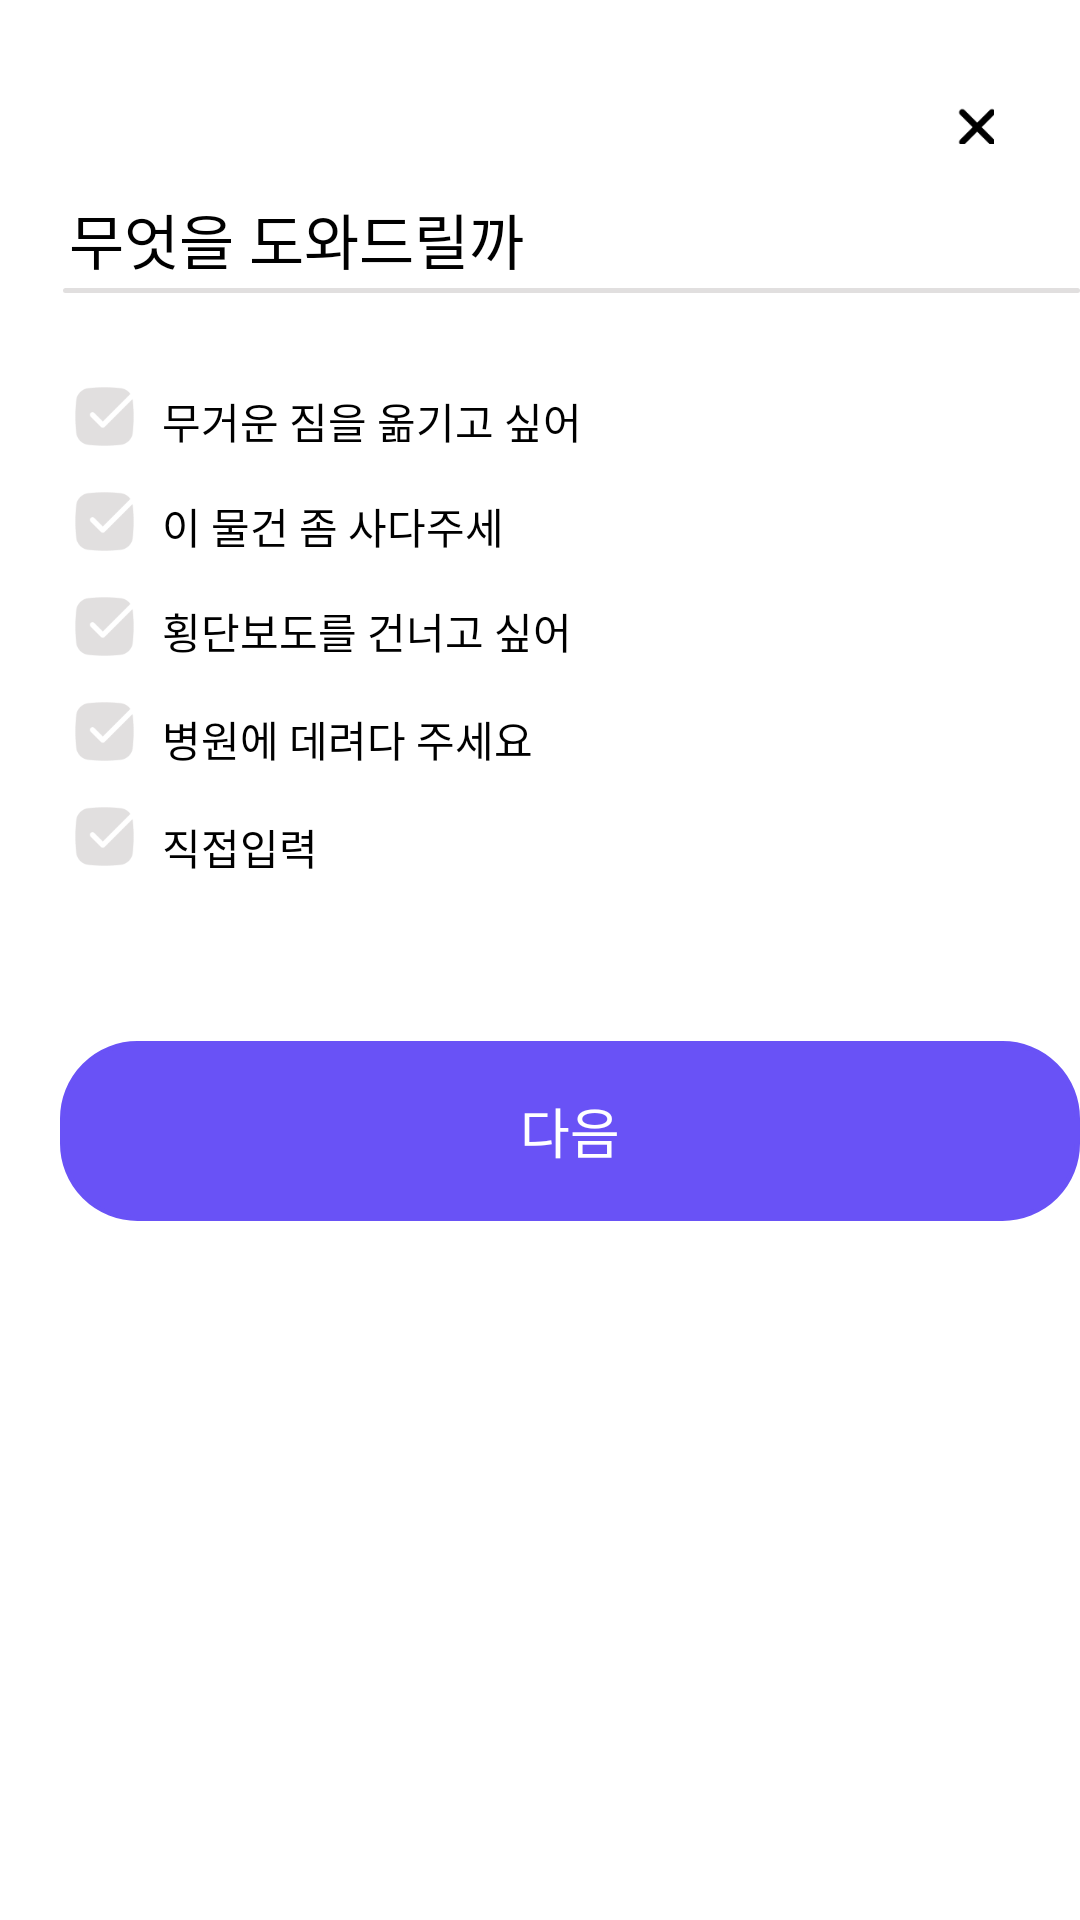

Point at icon controls on the screen. Image size 1080x1920, points as point (x, y).
check: point (104, 416), point (104, 521), point (104, 626), point (104, 731), point (104, 836)
